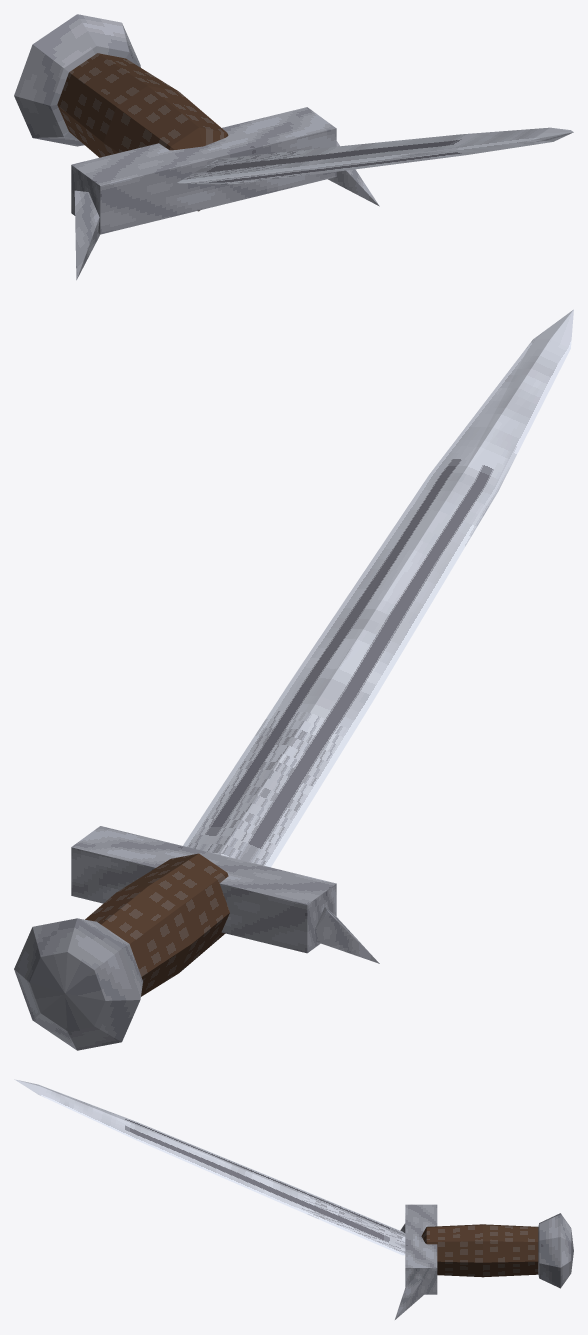
Rendered from blade.glb.
3 views of the same model, one above another, from view 1: azimuth 30°, elevation 25°; view 2: azimuth 150°, elevation 25°; view 3: azimuth 270°, elevation 25° (orthographic). The views are drawn at different scales.
Visible parts, largest first — view 1: sword; view 2: sword; view 3: sword.
Part boxes in pixels (x1,y1,x2,y2): sword: [14, 14, 573, 280]; sword: [14, 309, 573, 1050]; sword: [14, 1079, 573, 1319].
Bounding box in the file's own units: 0.1296 × 0.1541 × 0.3762.
1 material, 1 textured.
